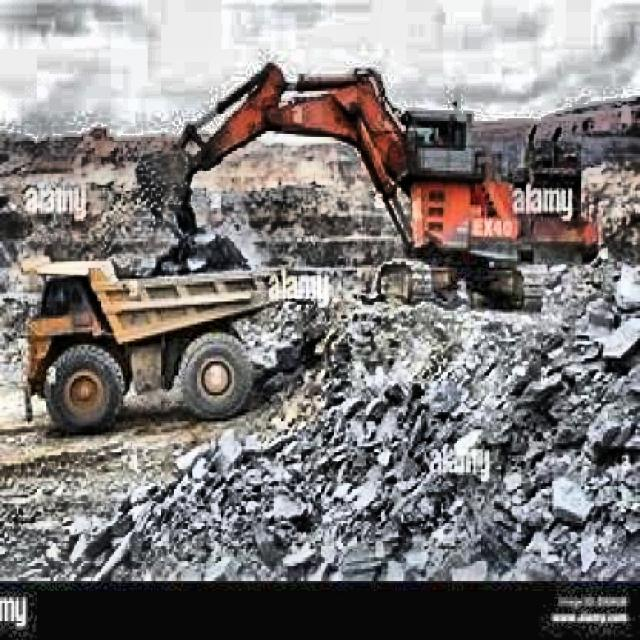dump_truck: (18, 242, 297, 440)
excavator: (131, 43, 615, 322)
